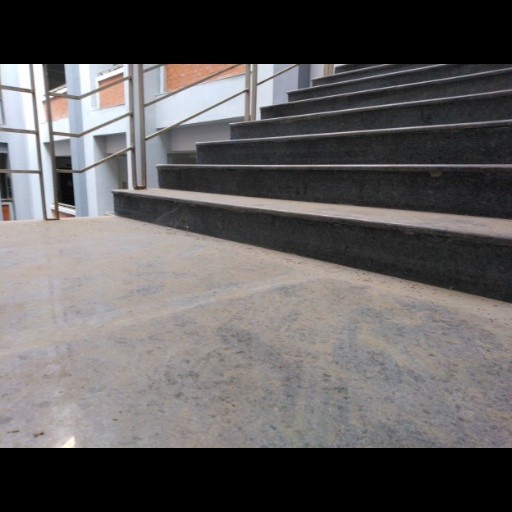Stairs: (114, 66, 512, 302)
